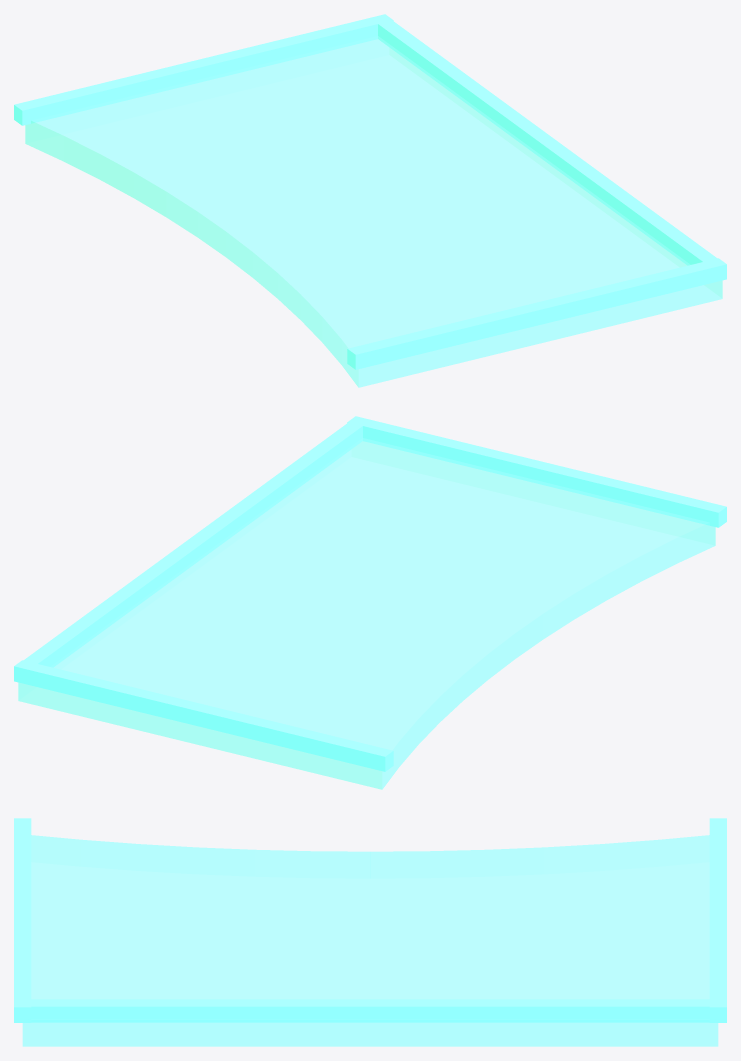
The model's file is Pier_Ghost_Remote_v2.glb.
The picture shows the model from 3 angles, top to bottom: view 1: azimuth 30°, elevation 25°; view 2: azimuth 150°, elevation 25°; view 3: azimuth 270°, elevation 25°; orthographic projection. The views are drawn at different scales.
Parts seen in each view (by area): view 1: Pier_Ghost_Remote_v2; view 2: Pier_Ghost_Remote_v2; view 3: Pier_Ghost_Remote_v2.
Part boxes in pixels (x1=…): Pier_Ghost_Remote_v2: x1=14, y1=14, x2=726, y2=387; Pier_Ghost_Remote_v2: x1=14, y1=416, x2=726, y2=789; Pier_Ghost_Remote_v2: x1=14, y1=818, x2=726, y2=1046.
Size of the model in its own units: 1.8 by 0.175 by 2.87.
